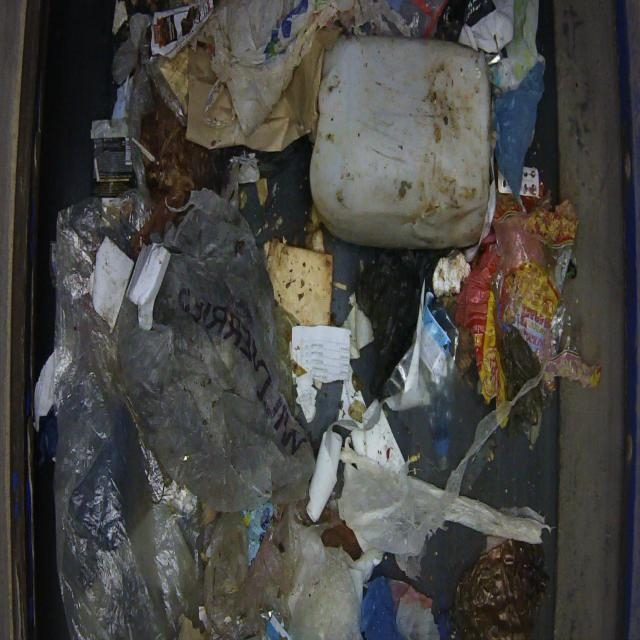cups: (307, 33, 495, 250)
other-trash: (36, 0, 589, 638)
